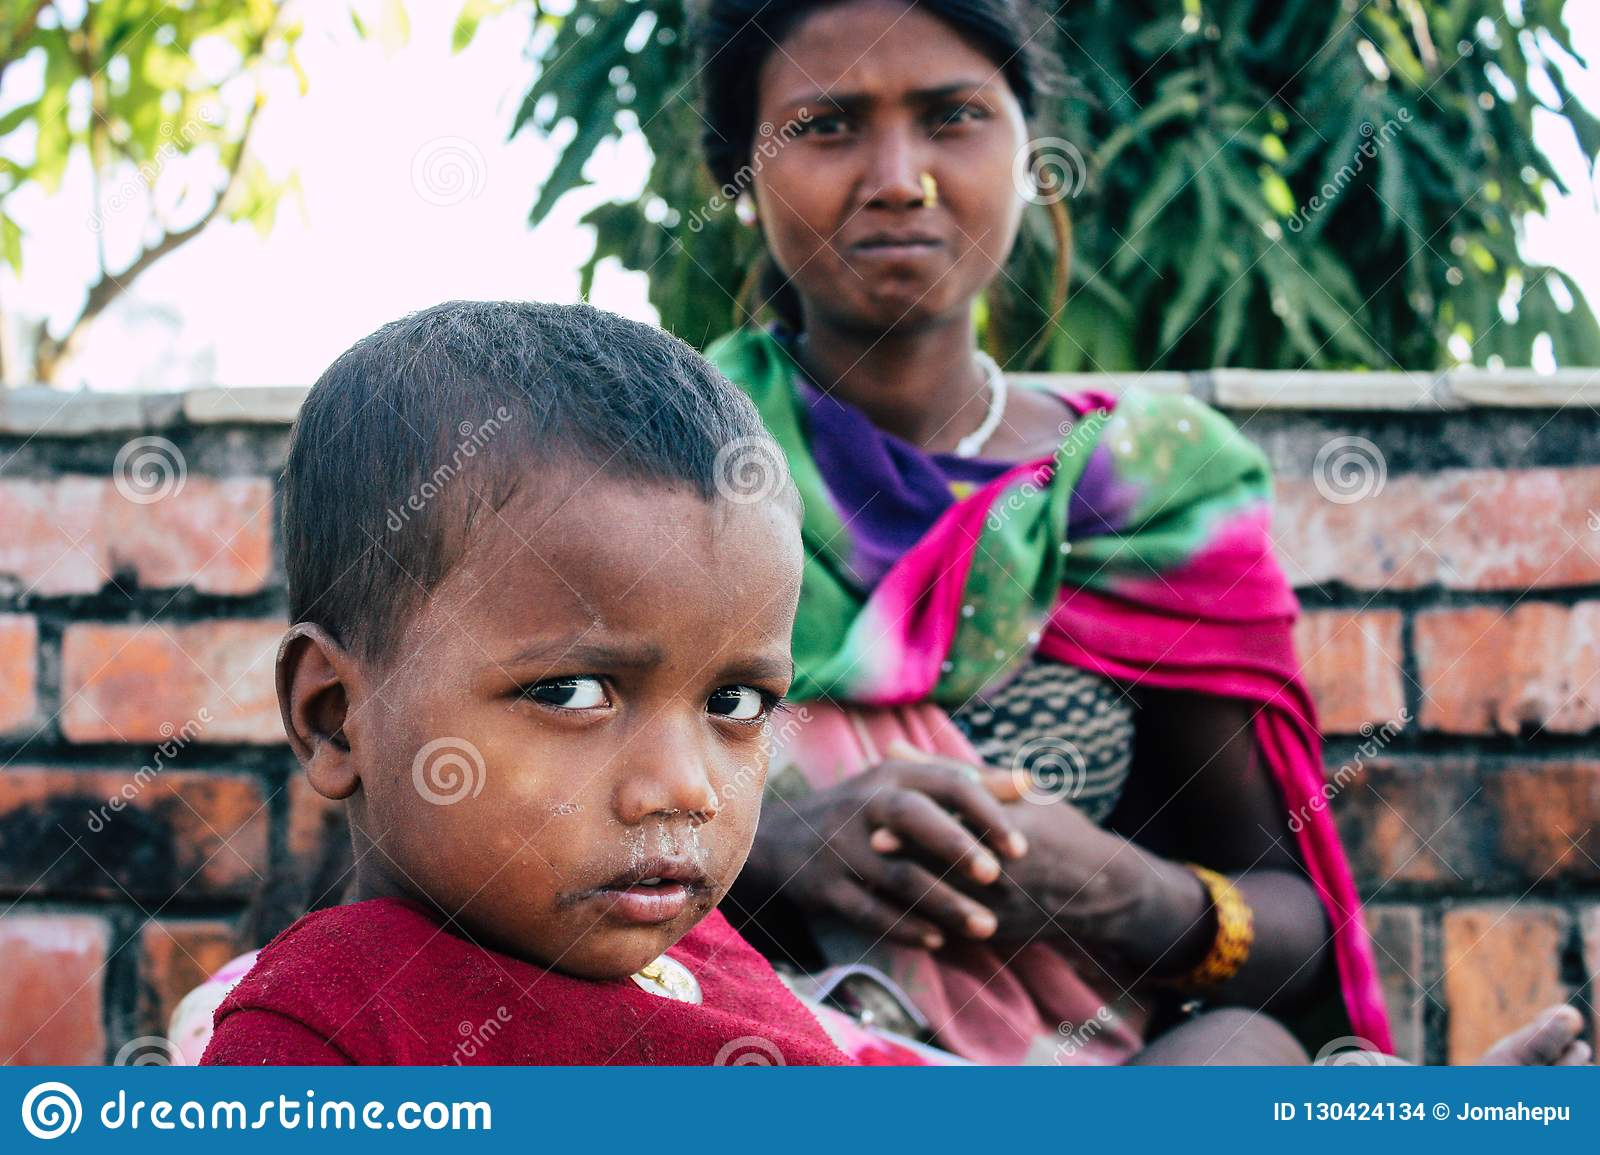human: (649, 1, 1420, 1068), (198, 285, 879, 1068)
